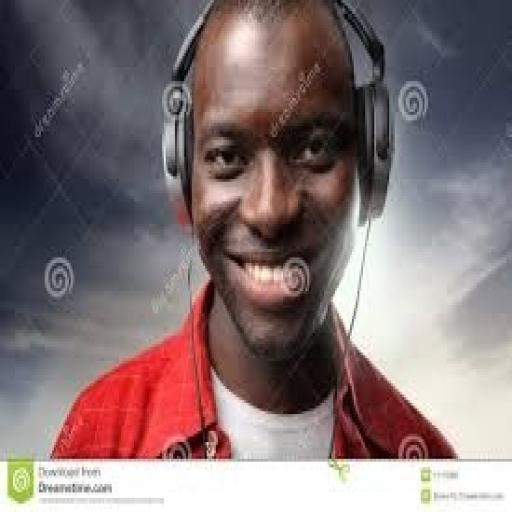listening_to_music: (46, 0, 460, 462)
